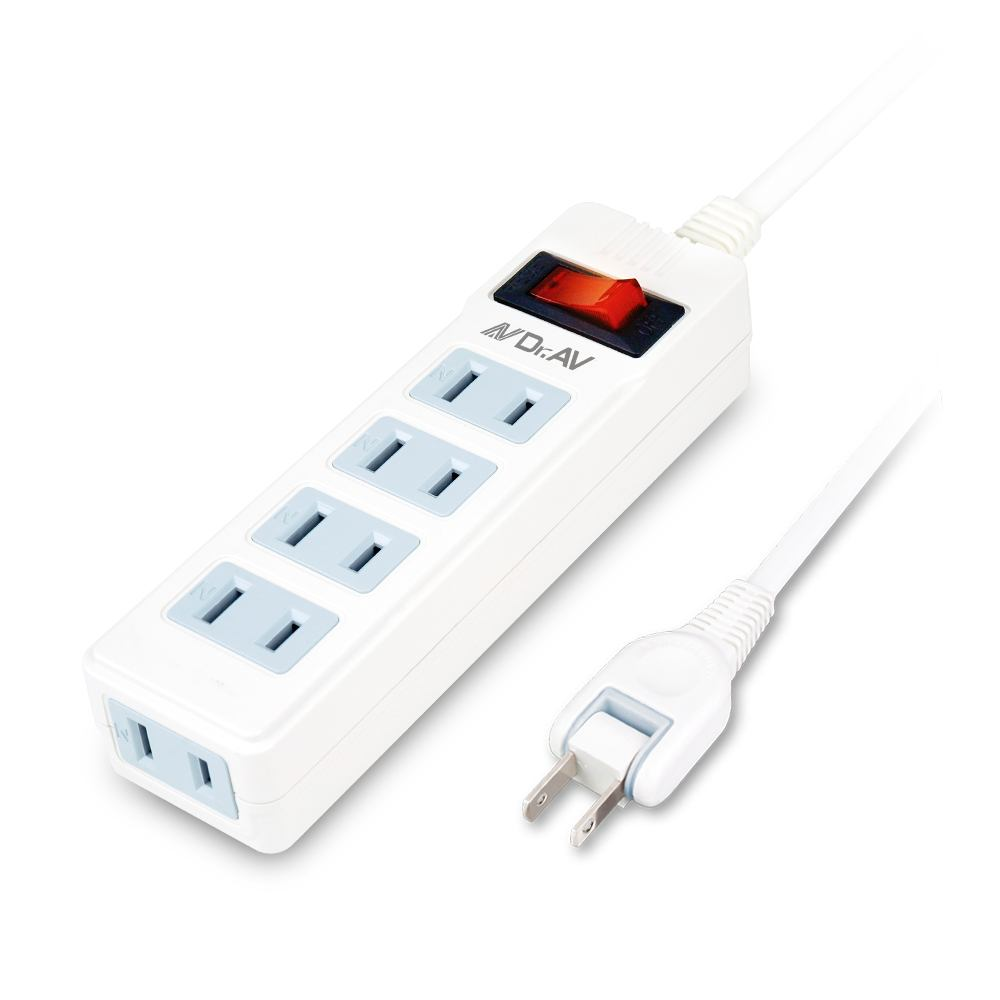socket: (92, 40, 956, 855)
